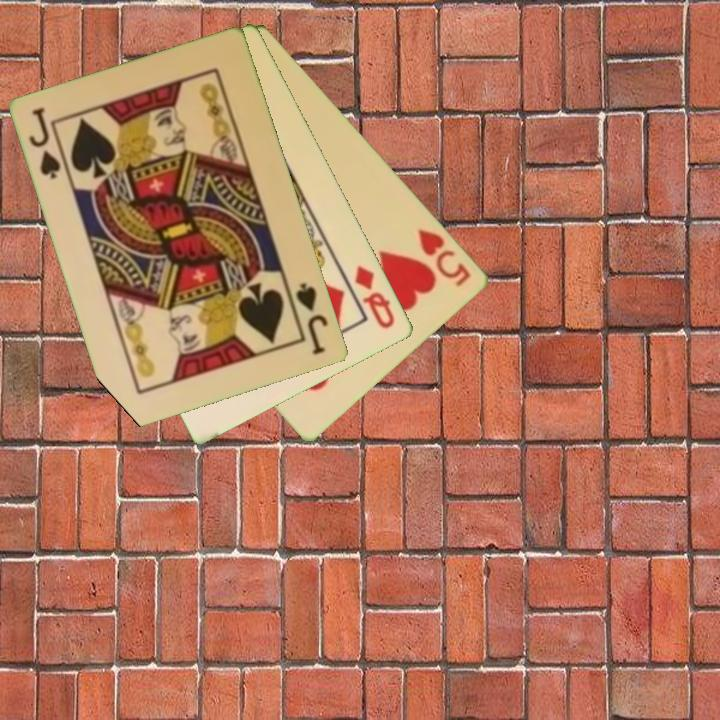5h: (414, 225, 475, 290)
Js: (26, 104, 71, 183), (293, 279, 332, 358)
Qd: (351, 262, 398, 332)
